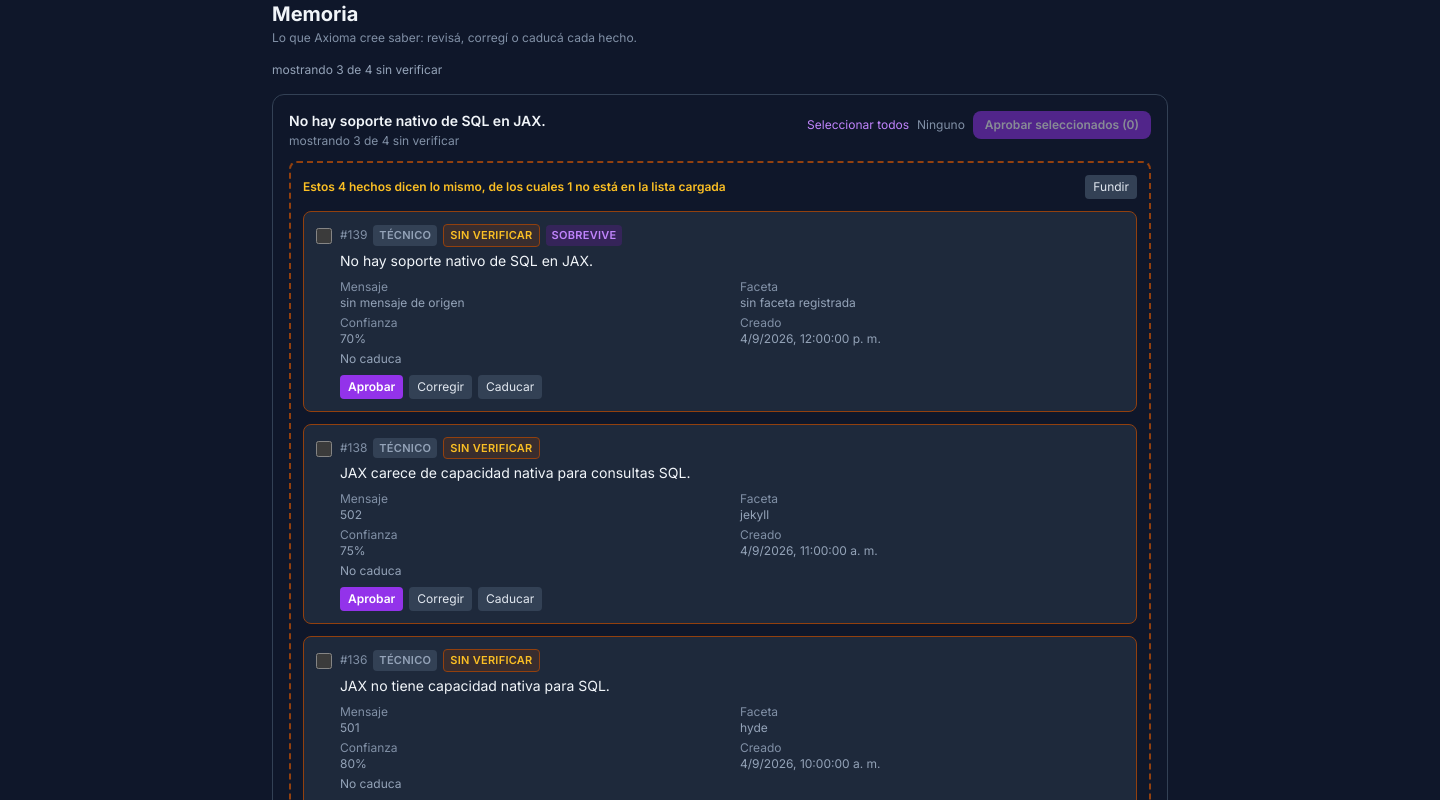
Test: Memoria › M3: el aviso y la confirmacion de fundir cuentan TODOS los ids del cluster, no solo los cargados
Click the button "Fundir".
click(1111, 187)  # box [1085,175,1137,199]
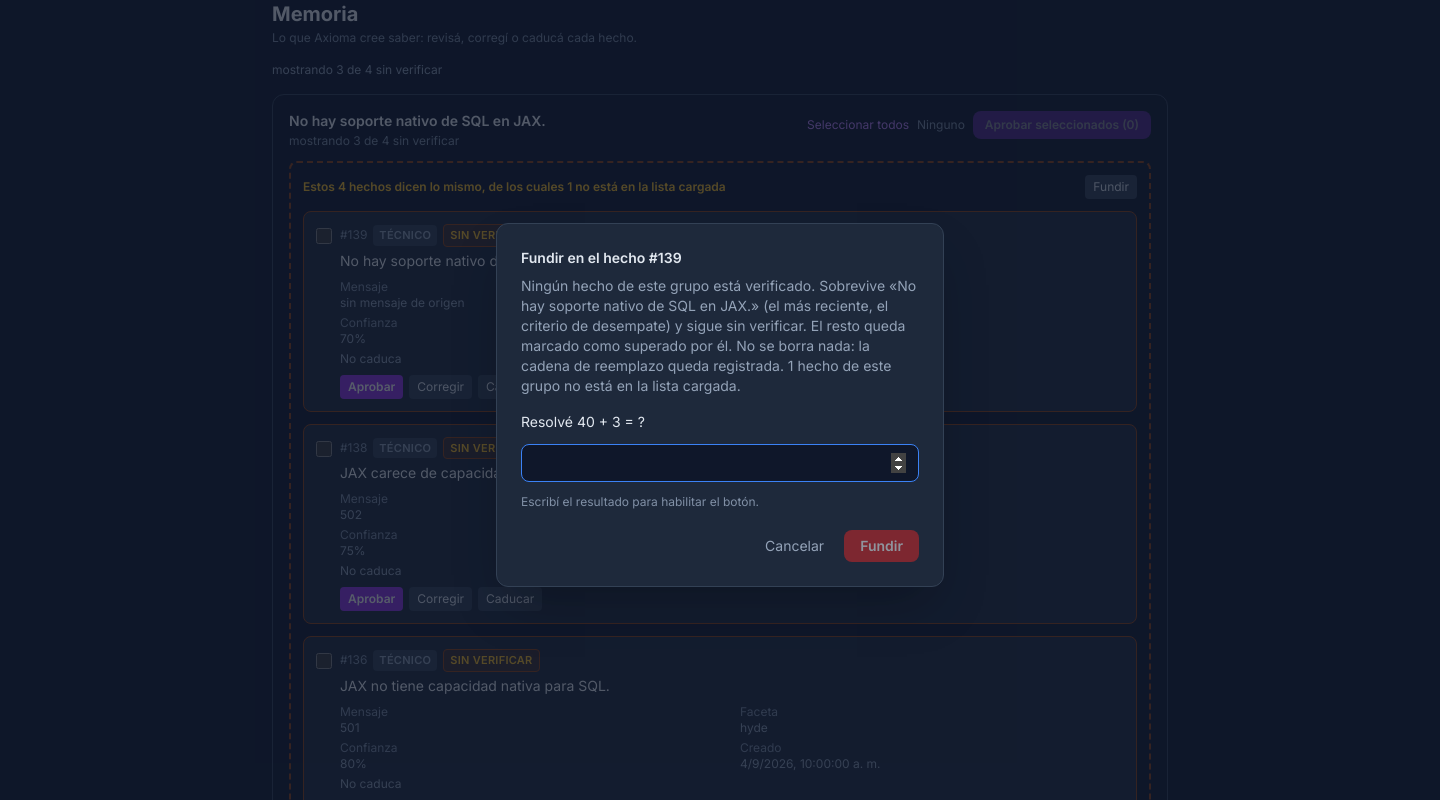
Result: the dialog shows "1 hecho de este grupo no está en la lista cargada." at [521,277,916,394]
